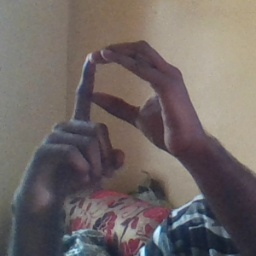P: (35, 38, 191, 190)
